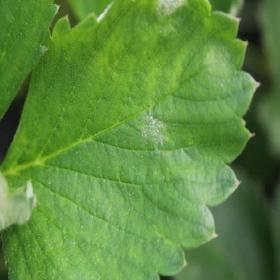Powdery Mildew Leaf: (0, 0, 261, 279)
